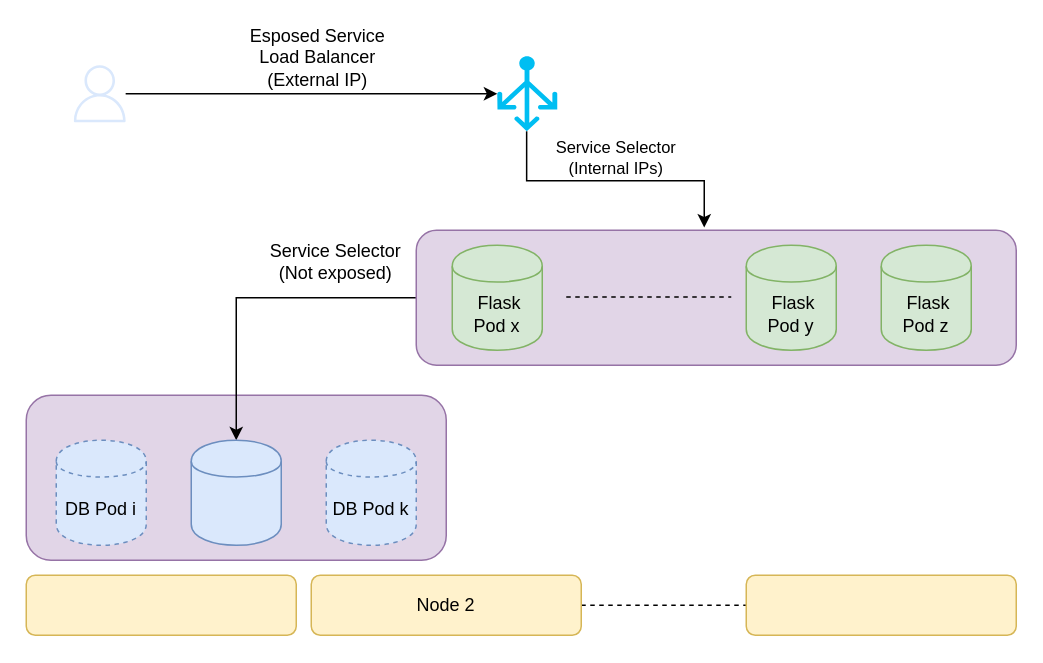
Image size: 1043x663. Some labels were removed from this diagram. Here are the shapes that lost their labels. From the top down, the centre of each, then its label:
(235,492): DB Pod j
(160,604): Node 1
(880,604): Node n
